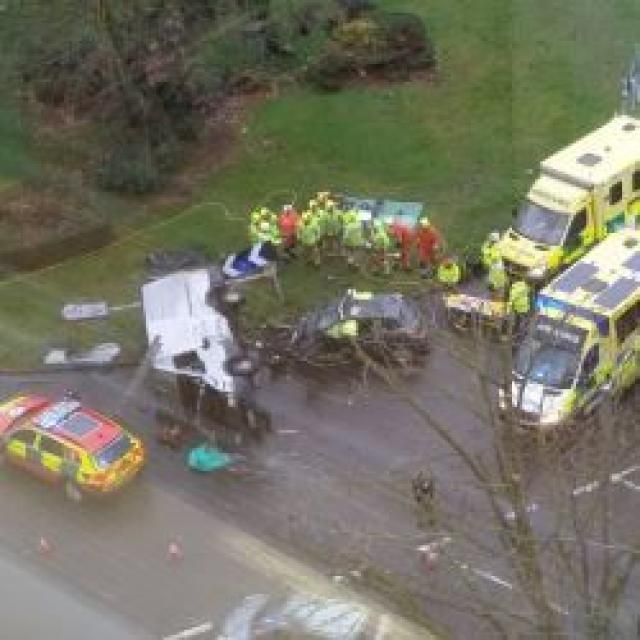traffic_incident: (120, 271, 264, 430), (279, 284, 440, 364)
